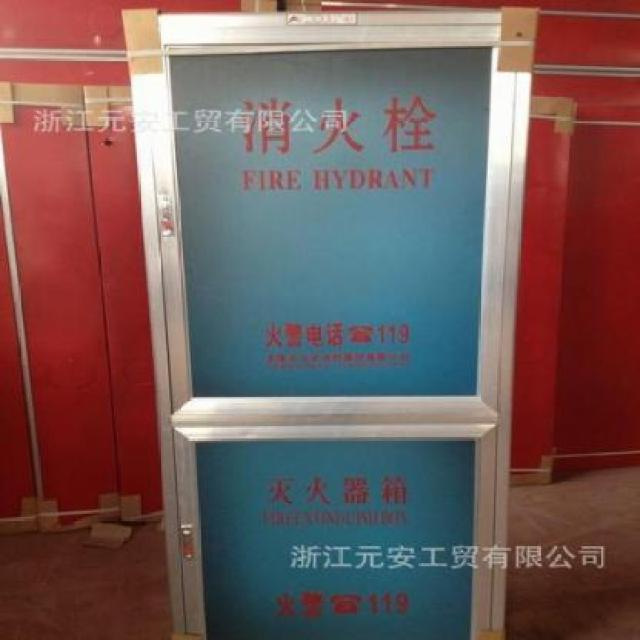firehydrant: (116, 3, 546, 640)
